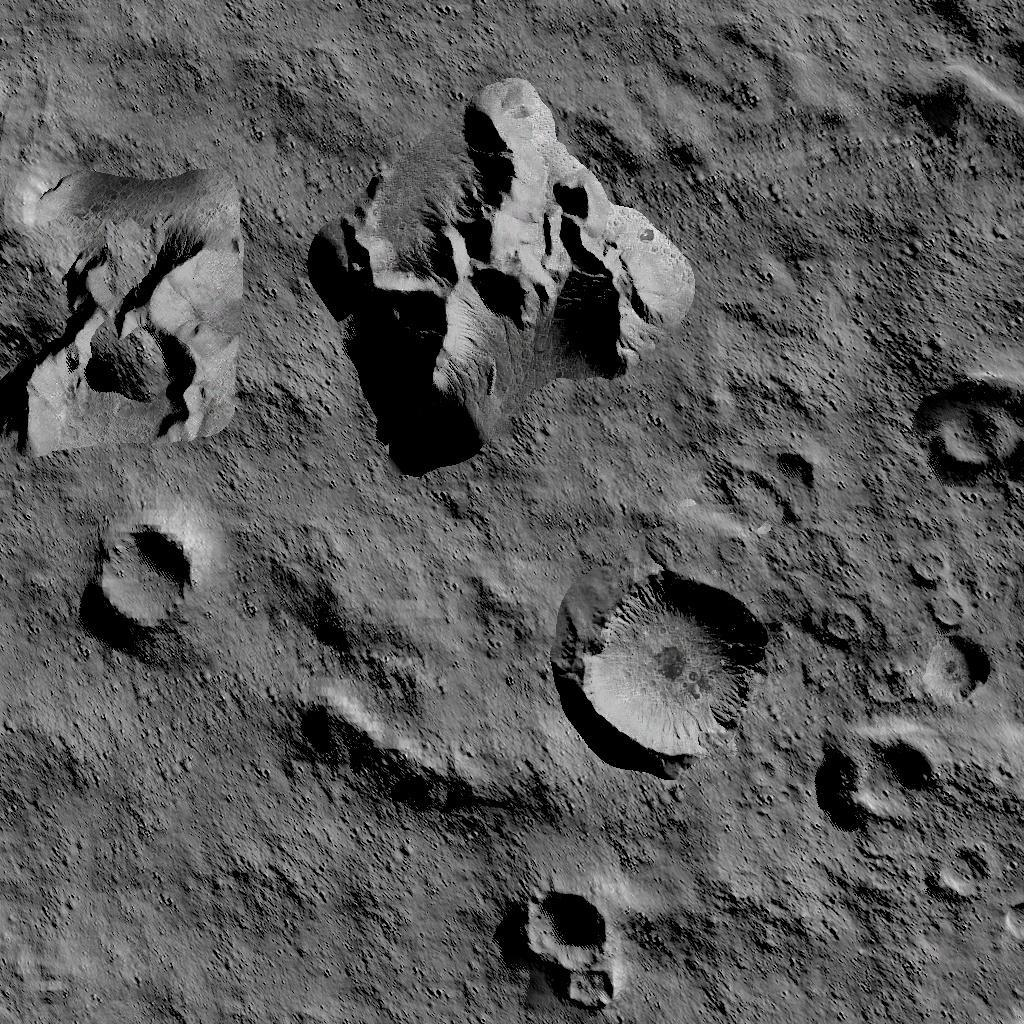Boulders: (314, 82, 692, 478), (0, 162, 243, 458), (291, 692, 558, 820), (896, 0, 1024, 180)
Crater: (571, 565, 765, 758), (510, 882, 620, 1016), (86, 520, 198, 640), (831, 722, 948, 830), (916, 368, 1024, 480)
Plan surface: (0, 655, 278, 1024), (0, 0, 301, 150), (296, 835, 498, 1024)
